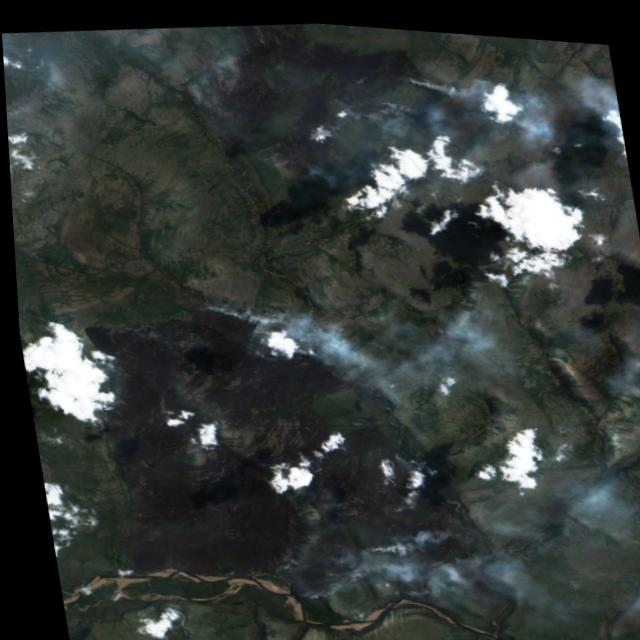fire: (229, 45, 477, 232), (259, 494, 480, 627), (155, 288, 297, 371)
